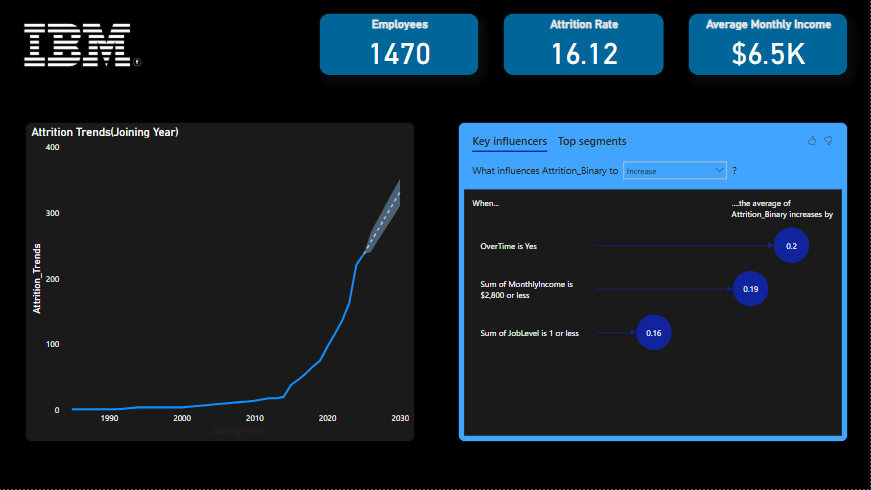

This screenshot's page, from the dashboard's own definition file:
{"tool":"powerbi","page":{"name":"Predictive","canvas":[1280,720],"ordinal":2},"visuals":[{"type":"lineChart","title":"Attrition Trends(Joining Year)","fields":{"Category":["HR-Data.Joining Year"],"Y":["HR-Data.Attrition_Trends"]},"box":[39.7,180.7,573.1,470.2],"z":0},{"type":"keyDriversVisual","fields":{"Target":["HR-Data.Attrition_Binary"],"ExplainBy":["HR-Data.OverTime","Sum(HR-Data.MonthlyIncome)","HR-Data.JobRole","Sum(HR-Data.JobLevel)"]},"box":[675.9,180.7,573.1,470.2],"z":1000},{"type":"card","title":"Employees","fields":{"Values":["Sum(HR-Data.EmployeeCount)"]},"box":[472,19.8,235.3,92.1],"z":2000},{"type":"card","title":"Attrition Rate","fields":{"Values":["HR-Data.Attrition Rate"]},"box":[742.1,19.8,236.7,92.1],"z":3000},{"type":"card","title":"Average Monthly Income","fields":{"Values":["HR-Data.Average Monthly Income"]},"box":[1013.5,19.8,235.3,92.1],"z":4000},{"type":"image","box":[32.3,22,185.1,91.1],"z":5000}]}

Visuals, with their boxes in screenshot pixels (x1, y1, x2, y2), scaled from the page's 1280x720 canvas onto the 871x490 screenshot:
"Attrition Trends(Joining Year)" lineChart: bbox=[27, 123, 417, 443]
keyDriversVisual - HR-Data.Attrition_Binary x HR-Data.OverTime: bbox=[460, 123, 850, 443]
"Employees" card: bbox=[321, 13, 481, 76]
"Attrition Rate" card: bbox=[505, 13, 666, 76]
"Average Monthly Income" card: bbox=[690, 13, 850, 76]
image: bbox=[22, 15, 148, 77]
